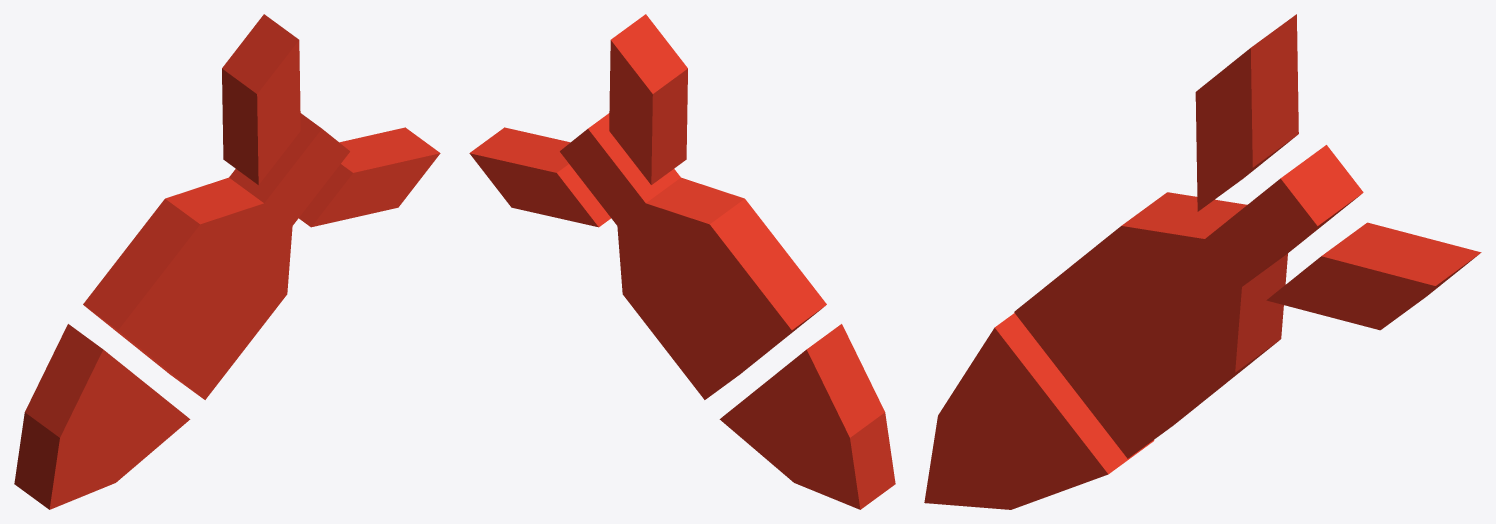
The model's file is Icon_Missile_01.fbx.
3 views of the same model, side by side, from view 1: azimuth 30°, elevation 25°; view 2: azimuth 150°, elevation 25°; view 3: azimuth 330°, elevation 25° (orthographic). The views are drawn at different scales.
Visible parts, largest first — view 1: Icon_Missile_01; view 2: Icon_Missile_01; view 3: Icon_Missile_01.
Boxes of the visible parts, x1,y1,x2,y2 form: Icon_Missile_01: [14, 14, 440, 509]; Icon_Missile_01: [469, 14, 895, 509]; Icon_Missile_01: [924, 14, 1481, 509].
Bounding box in the file's own units: 77.3 × 77.3 × 12.06.
